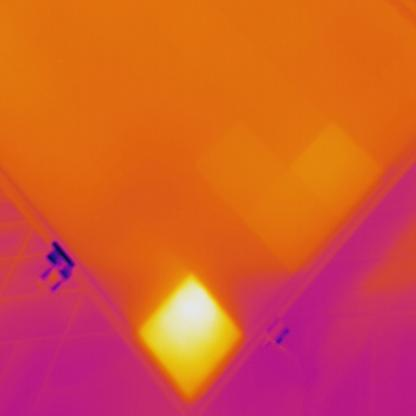hotspot: (133, 266, 252, 406)
